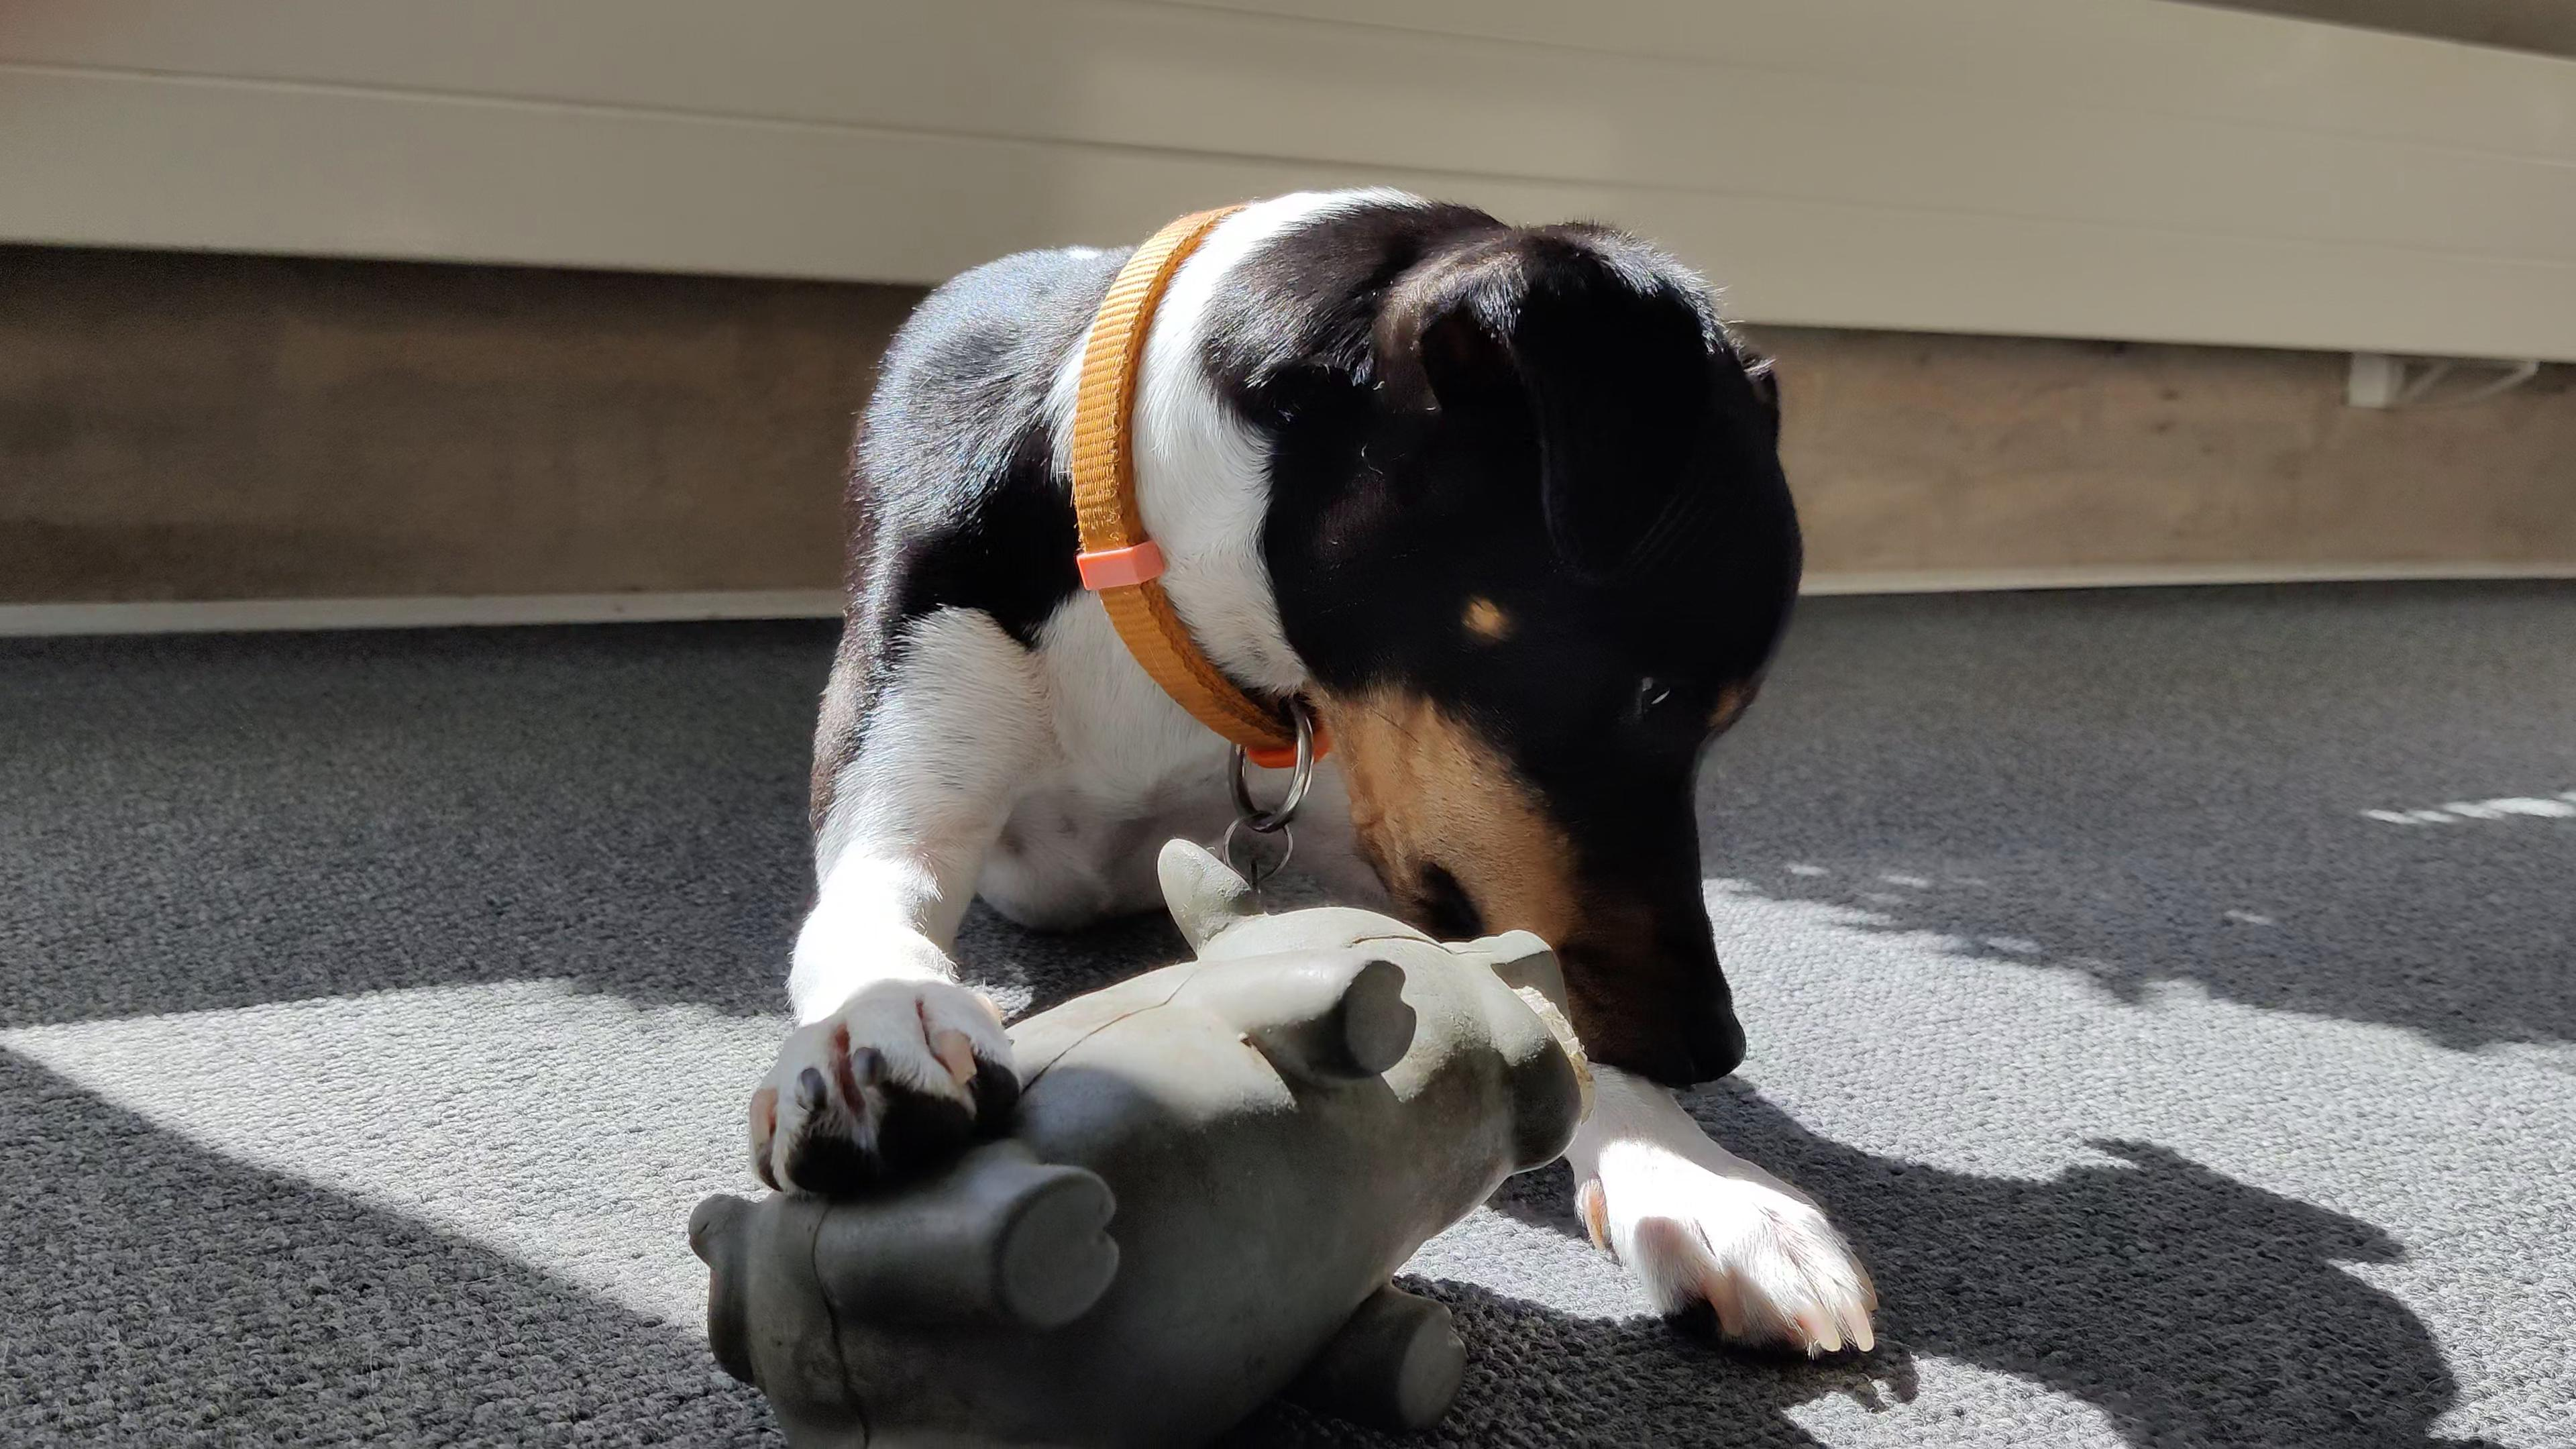Dog: (718, 170, 1904, 1373)
